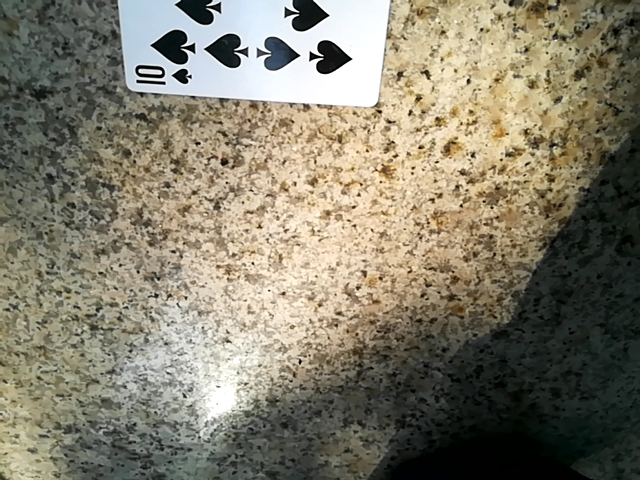ht 10: (98, 1, 390, 109)
